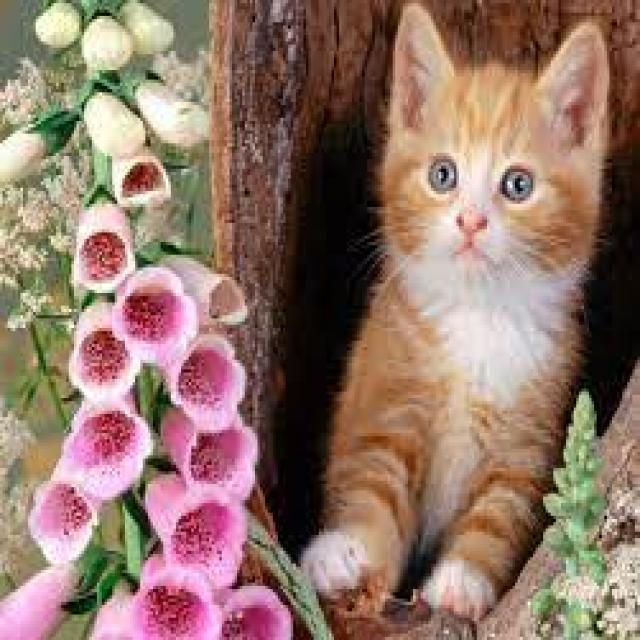Cat: (298, 0, 615, 627)
